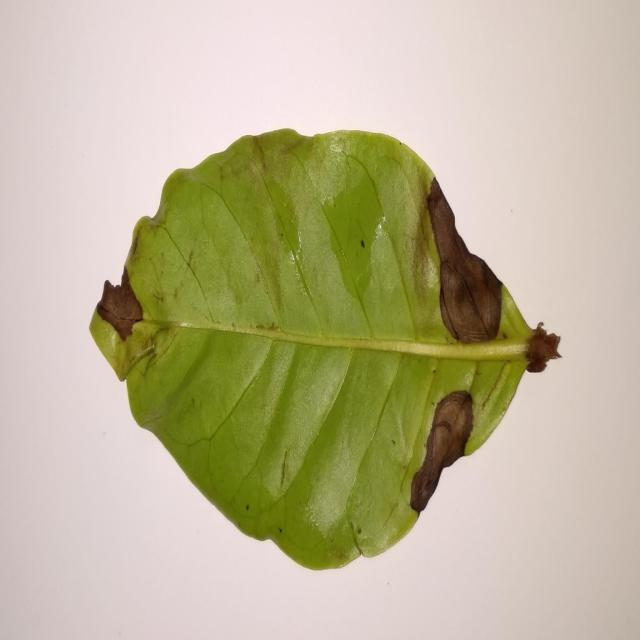Enfermedad-Antracnosis: (88, 128, 562, 574)
